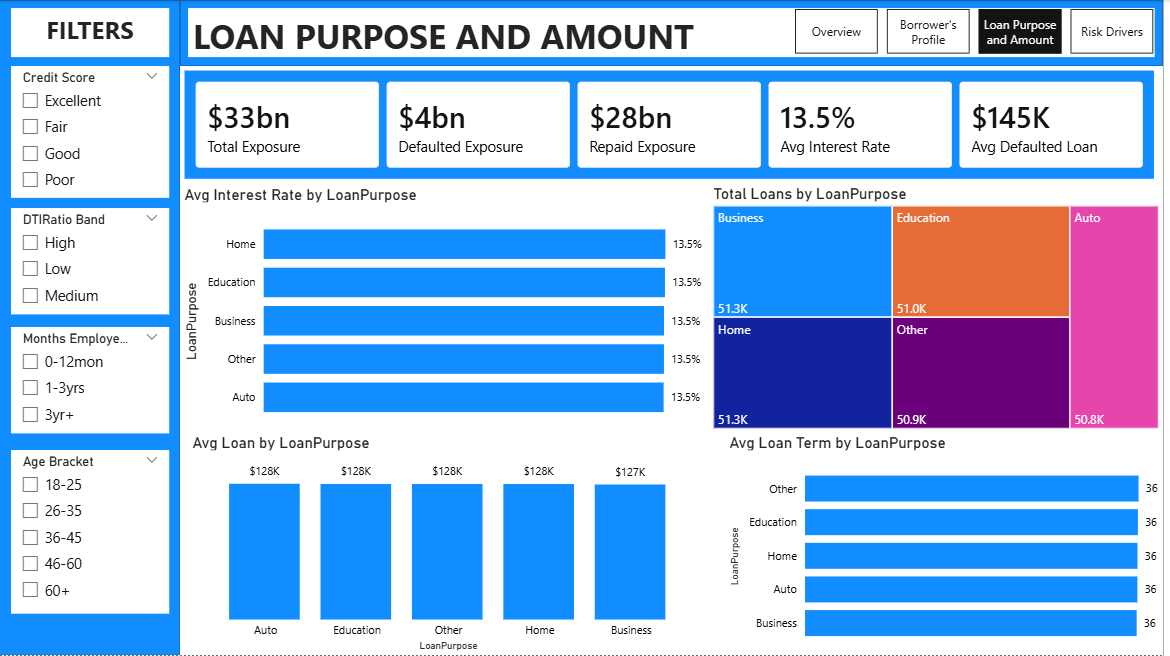

This screenshot's page, from the dashboard's own definition file:
{"tool":"powerbi","page":{"name":"Loan Purpose and Amount ","canvas":[1280,720],"ordinal":2},"visuals":[{"type":"shape","box":[199,0,1081,72.6],"z":0},{"type":"textbox","box":[207.8,8.8,1063.4,53.9],"z":1000},{"type":"shape","box":[0,0,199,720.3],"z":2000},{"type":"textbox","box":[13.2,8.8,173.7,53.9],"z":3000},{"type":"slicer","fields":{"Values":["Loan_default.Credit Score "]},"box":[13.2,72.6,173.7,145.2],"z":4000},{"type":"slicer","fields":{"Values":["Loan_default.DTIRatio Band"]},"box":[13.2,228.7,173.7,116.6],"z":5000},{"type":"slicer","fields":{"Values":["Loan_default.Months Employed Band"]},"box":[13.2,359.6,173.7,116.6],"z":6000},{"type":"cardVisual","fields":{"Data":["Loan_default.Total Exposure","Loan_default.Defaulted Exposure","Loan_default.Repaid Exposure","Loan_default.Avg Interest Rate","Loan_default.Avg Defaulted Loan"]},"box":[199,72.6,1081,129.8],"z":7000},{"type":"treemap","fields":{"Group":["LoanPurpose.LoanPurpose"],"Values":["Loan_default.Total Loans"]},"box":[780.8,202.3,499.2,273.8],"z":8000},{"type":"clusteredBarChart","fields":{"Category":["LoanPurpose.LoanPurpose"],"Y":["Loan_default.Avg Interest Rate"]},"box":[199,203.4,581.7,272.7],"z":9000},{"type":"clusteredBarChart","fields":{"Y":["Loan_default.Avg Loan Term"],"Category":["LoanPurpose.LoanPurpose"]},"box":[798.4,476.2,481.6,244.1],"z":10000},{"type":"slicer","fields":{"Values":["Loan_default.Age Bracket "]},"box":[13.2,494.8,173.7,180.3],"z":11000},{"type":"clusteredColumnChart","fields":{"Y":["Loan_default.Avg Loan"],"Category":["LoanPurpose.LoanPurpose"]},"box":[207.8,476.2,572.9,244.1],"z":12000},{"type":"pageNavigator","box":[875,10.4,397.2,49.5],"z":13000}]}

Visuals, with their boxes in screenshot pixels (x1, y1, x2, y2), scaled from the page's 1280x720 canvas onto the 1170x656 screenshot:
shape: 182 0 1169 66
textbox: 190 8 1162 57
shape: 0 0 182 655
textbox: 12 8 171 57
slicer - Loan_default.Credit Score : 12 66 171 198
slicer - Loan_default.DTIRatio Band: 12 208 171 315
slicer - Loan_default.Months Employed Band: 12 328 171 434
cardVisual - Loan_default.Total Exposure x Loan_default.Defaulted Exposure: 182 66 1169 184
treemap - LoanPurpose.LoanPurpose x Loan_default.Total Loans: 714 184 1169 434
clusteredBarChart - LoanPurpose.LoanPurpose x Loan_default.Avg Interest Rate: 182 185 714 434
clusteredBarChart - Loan_default.Avg Loan Term x LoanPurpose.LoanPurpose: 730 434 1169 655
slicer - Loan_default.Age Bracket : 12 451 171 615
clusteredColumnChart - Loan_default.Avg Loan x LoanPurpose.LoanPurpose: 190 434 714 655
pageNavigator: 800 9 1163 55
